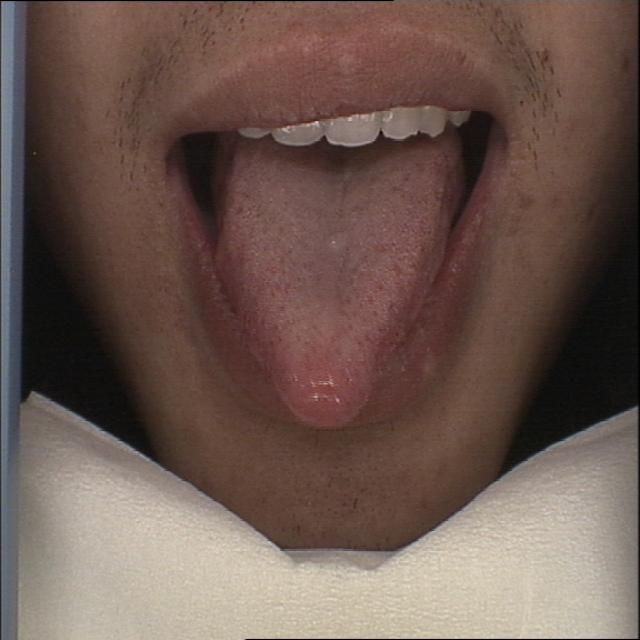tongue: (212, 144, 464, 434)
